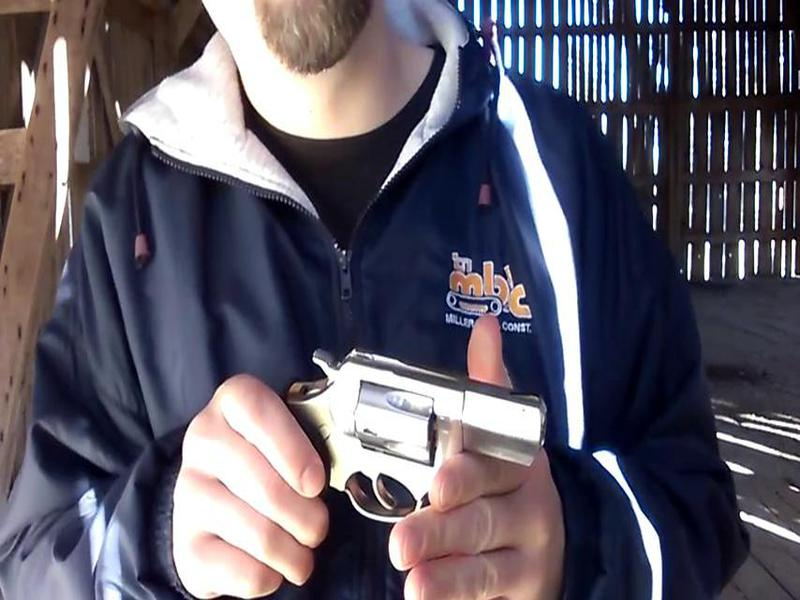Revolver: (257, 280, 545, 560)
